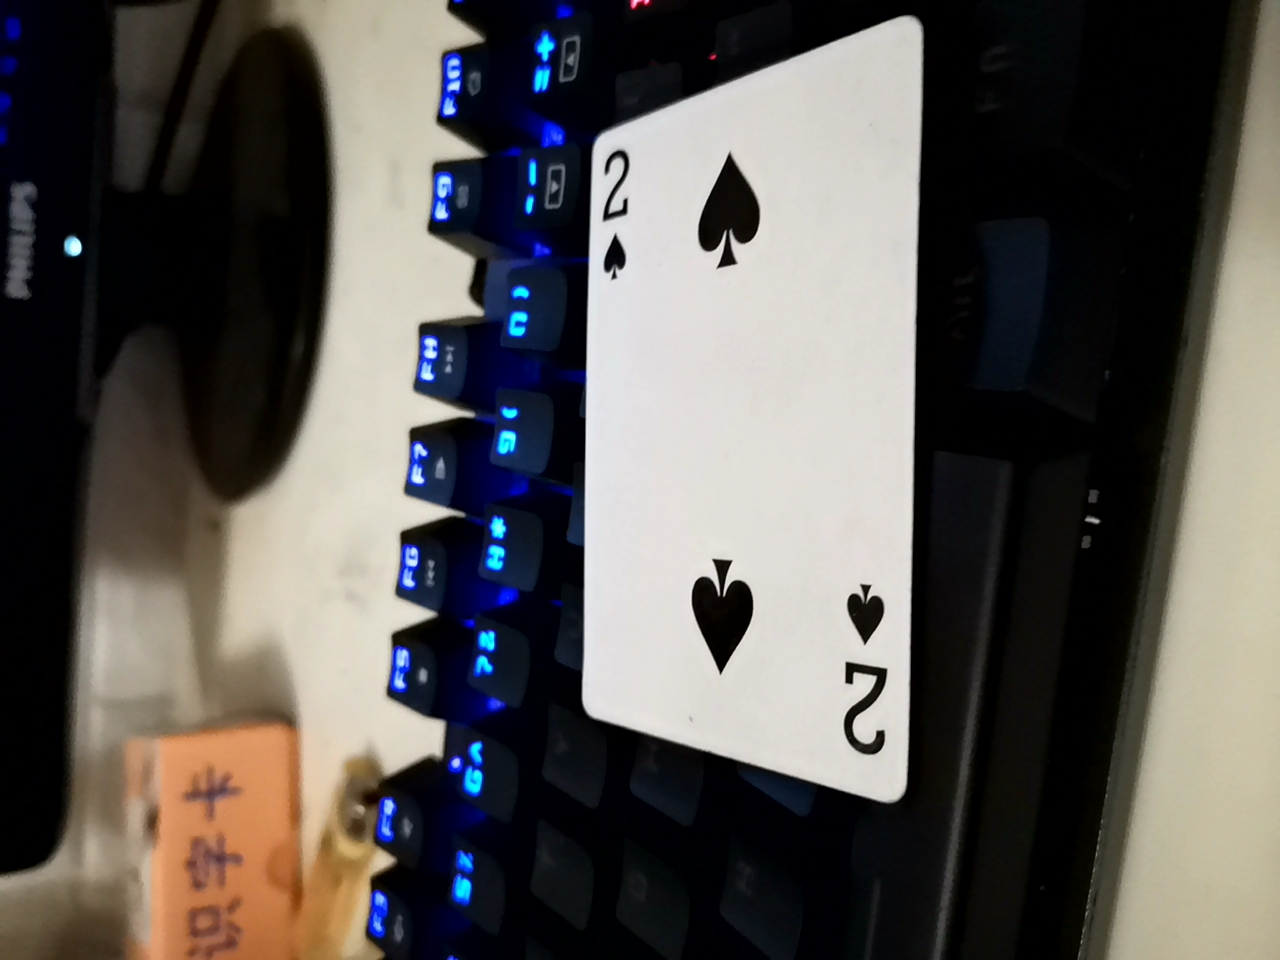ht 2: (510, 54, 949, 840)
